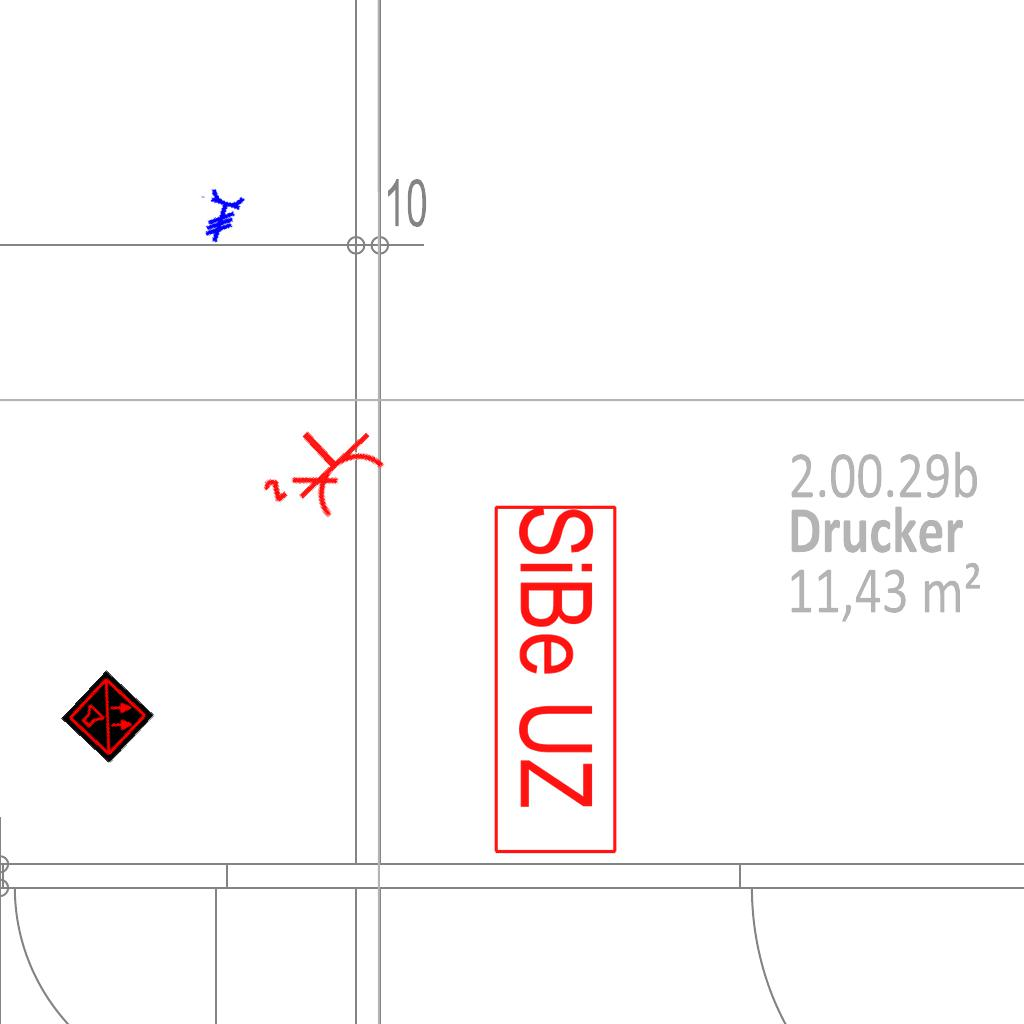CEE_Drehstrom_Steckdose_16_32_A: (188, 184, 247, 248)
OKW_Multisensormelder_(Kombination_optischer_Rauch-Kahlenmonoxid_Waerme-Melder): (61, 670, 155, 764)
Schukosteckdose_mehrfach: (249, 394, 398, 542)
Zentrale_Sicherheitsbeleuchtung: (490, 502, 620, 859)
